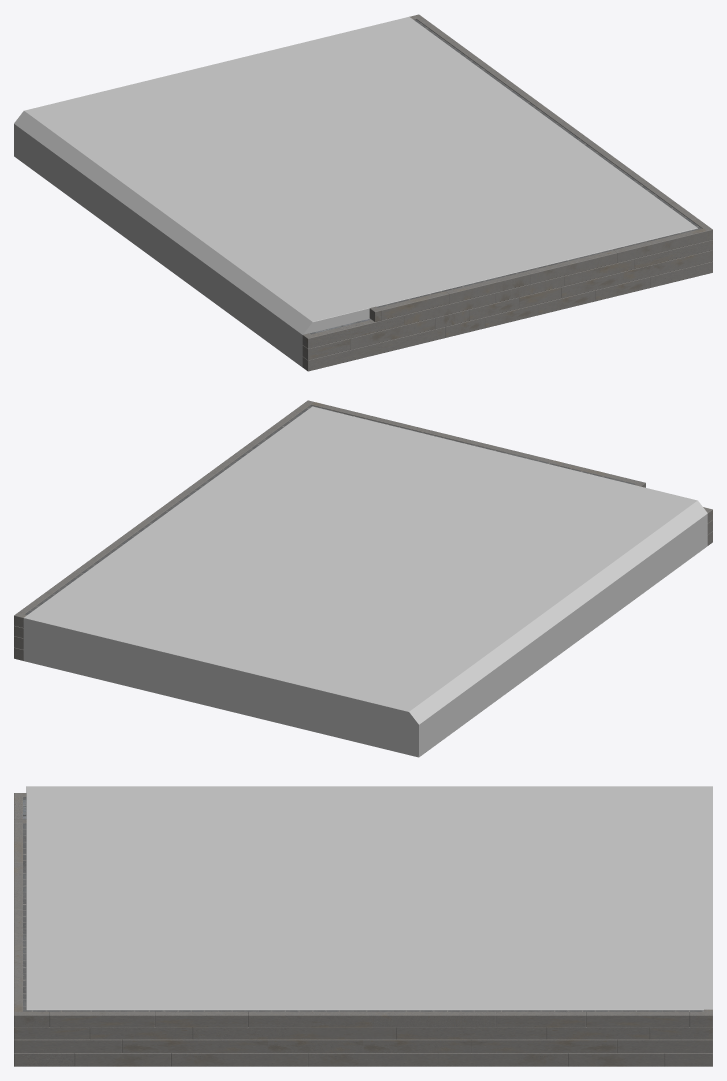
File: SM_DG_Stereobate01C.fbx
The picture shows the model from 3 angles, top to bottom: view 1: azimuth 30°, elevation 25°; view 2: azimuth 150°, elevation 25°; view 3: azimuth 270°, elevation 25°; orthographic projection. The views are drawn at different scales.
Parts seen in each view (by area): view 1: SM_DG_Stereobate01C_ConvexHulls, SM_DG_Stereobate01C; view 2: SM_DG_Stereobate01C_ConvexHulls, SM_DG_Stereobate01C; view 3: SM_DG_Stereobate01C_ConvexHulls, SM_DG_Stereobate01C.
Boxes of the visible parts, <box> form: SM_DG_Stereobate01C_ConvexHulls: <box>14,17,697,367</box>; SM_DG_Stereobate01C: <box>302,14,712,371</box>; SM_DG_Stereobate01C_ConvexHulls: <box>23,406,707,757</box>; SM_DG_Stereobate01C: <box>14,400,712,660</box>; SM_DG_Stereobate01C_ConvexHulls: <box>26,786,712,1011</box>; SM_DG_Stereobate01C: <box>14,793,712,1066</box>.
Size of the model in its own units: 1174 by 1476 by 120.
4 materials, 3 textured.
